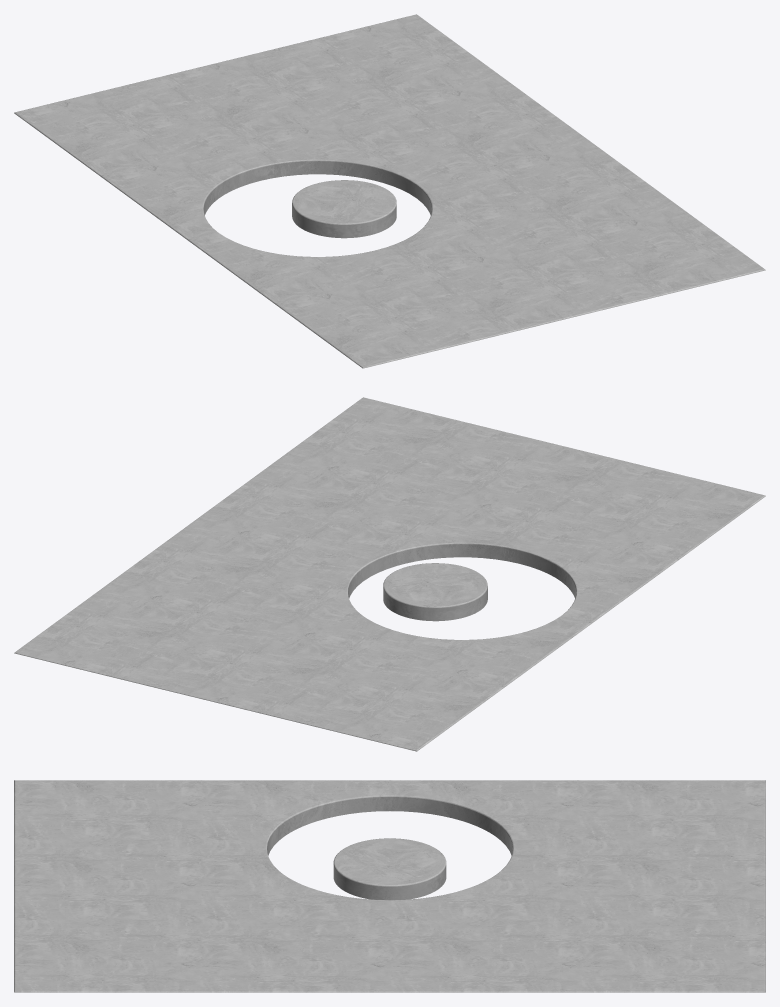
Rendered from platform_02_09.glb.
3 views of the same model, one above another, from view 1: azimuth 30°, elevation 25°; view 2: azimuth 150°, elevation 25°; view 3: azimuth 270°, elevation 25° (orthographic). The views are drawn at different scales.
Parts seen in each view (by area): view 1: Plane, mid_island; view 2: Plane, mid_island; view 3: Plane, mid_island.
Part boxes in pixels (x1,y1,x2,y2): Plane: (14, 14, 765, 368); mid_island: (292, 180, 396, 238); Plane: (14, 397, 765, 751); mid_island: (383, 563, 487, 621); Plane: (14, 780, 765, 992); mid_island: (333, 838, 446, 900).
Size of the model in its own units: 4 by 0.1351 by 6.
Materials: 1 (1 with a texture image).
